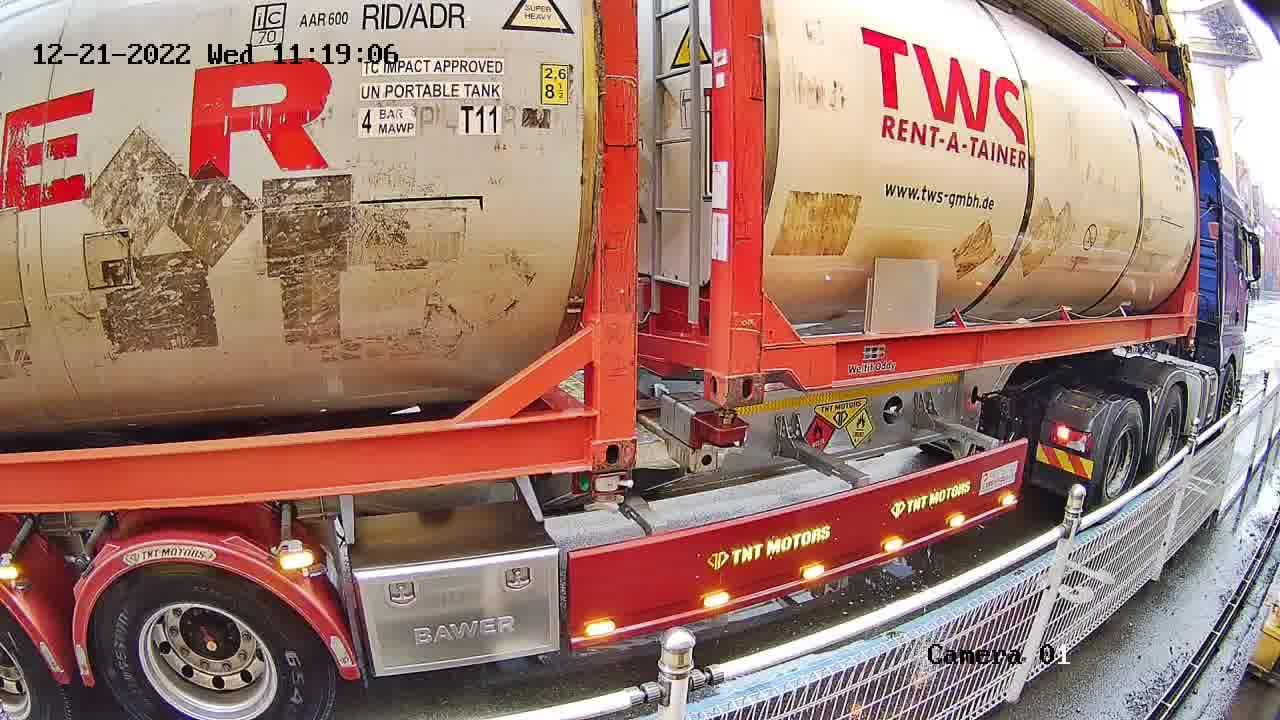Cone: (583, 470, 637, 514), (701, 405, 752, 451)
Hole_L: (730, 341, 805, 409)
Hole_R: (542, 397, 636, 472), (675, 332, 731, 406)
Tire: (97, 568, 331, 718), (2, 612, 62, 718), (1093, 401, 1144, 514), (1153, 388, 1184, 479)
